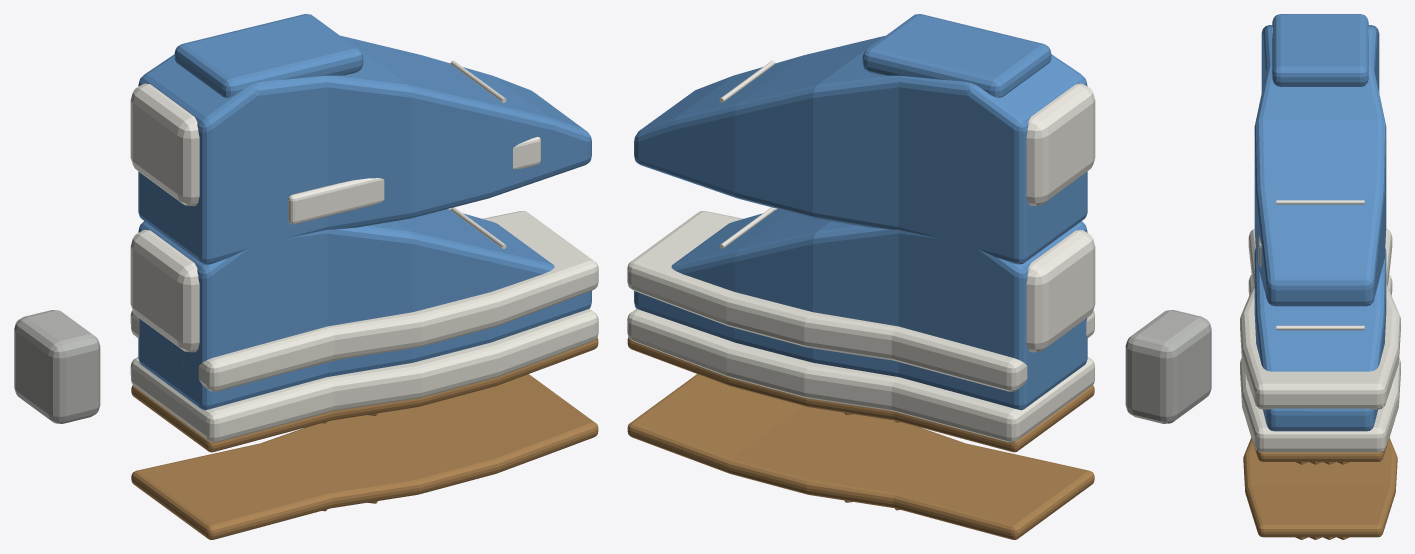
File: nike-oregon-waffle-1973.glb
3 views of the same model, side by side, from view 1: azimuth 30°, elevation 25°; view 2: azimuth 150°, elevation 25°; view 3: azimuth 270°, elevation 25° (orthographic). The views are drawn at different scales.
Visible parts, largest first — view 1: nike-oregon-waffle-1973_UPPER_EXPLODED, nike-oregon-waffle-1973_UPPER, nike-oregon-waffle-1973_OUTSOLE_EXPLODED, nike-oregon-waffle-1973_MIDSOLE_EXPLODED, nike-oregon-waffle-1973_MIDSOLE, nike-oregon-waffle-1973_TONGUE_EXPLODED, nike-oregon-waffle-1973_HEEL_FOAM_EXPLODED, nike-oregon-waffle-1973_HEEL_COUNTER, nike-oregon-waffle-1973_HEEL_COUNTER_EXPLODED, nike-oregon-waffle-1973_OUTSOLE, nike-oregon-waffle-1973_SIDE_REINFORCEMENT_EXPLODED; view 2: nike-oregon-waffle-1973_UPPER_EXPLODED, nike-oregon-waffle-1973_UPPER, nike-oregon-waffle-1973_OUTSOLE_EXPLODED, nike-oregon-waffle-1973_MIDSOLE_EXPLODED, nike-oregon-waffle-1973_MIDSOLE, nike-oregon-waffle-1973_TONGUE_EXPLODED, nike-oregon-waffle-1973_HEEL_FOAM_EXPLODED, nike-oregon-waffle-1973_HEEL_COUNTER, nike-oregon-waffle-1973_HEEL_COUNTER_EXPLODED, nike-oregon-waffle-1973_OUTSOLE; view 3: nike-oregon-waffle-1973_UPPER_EXPLODED, nike-oregon-waffle-1973_UPPER, nike-oregon-waffle-1973_OUTSOLE_EXPLODED, nike-oregon-waffle-1973_MIDSOLE_EXPLODED, nike-oregon-waffle-1973_TONGUE_EXPLODED, nike-oregon-waffle-1973_MIDSOLE, nike-oregon-waffle-1973_OUTSOLE, nike-oregon-waffle-1973_LACE_5, nike-oregon-waffle-1973_LACE_5_EXPLODED.
Part boxes in pixels (box(x1,y1,x2,y2)): nike-oregon-waffle-1973_UPPER_EXPLODED: box(138, 35, 591, 264); nike-oregon-waffle-1973_UPPER: box(138, 209, 591, 410); nike-oregon-waffle-1973_OUTSOLE_EXPLODED: box(131, 374, 598, 539); nike-oregon-waffle-1973_MIDSOLE_EXPLODED: box(130, 211, 598, 391); nike-oregon-waffle-1973_MIDSOLE: box(130, 308, 598, 442); nike-oregon-waffle-1973_TONGUE_EXPLODED: box(174, 14, 363, 97); nike-oregon-waffle-1973_HEEL_FOAM_EXPLODED: box(14, 310, 100, 423); nike-oregon-waffle-1973_HEEL_COUNTER: box(130, 229, 199, 352); nike-oregon-waffle-1973_HEEL_COUNTER_EXPLODED: box(130, 83, 199, 206); nike-oregon-waffle-1973_OUTSOLE: box(131, 337, 598, 452); nike-oregon-waffle-1973_SIDE_REINFORCEMENT_EXPLODED: box(288, 137, 540, 224); nike-oregon-waffle-1973_UPPER_EXPLODED: box(634, 35, 1087, 264); nike-oregon-waffle-1973_UPPER: box(634, 209, 1087, 410); nike-oregon-waffle-1973_OUTSOLE_EXPLODED: box(627, 374, 1094, 539); nike-oregon-waffle-1973_MIDSOLE_EXPLODED: box(627, 211, 1094, 391); nike-oregon-waffle-1973_MIDSOLE: box(627, 308, 1094, 442); nike-oregon-waffle-1973_TONGUE_EXPLODED: box(862, 14, 1051, 97); nike-oregon-waffle-1973_HEEL_FOAM_EXPLODED: box(1125, 310, 1211, 423); nike-oregon-waffle-1973_HEEL_COUNTER: box(1026, 230, 1095, 352); nike-oregon-waffle-1973_HEEL_COUNTER_EXPLODED: box(1026, 83, 1095, 206); nike-oregon-waffle-1973_OUTSOLE: box(627, 337, 1094, 452); nike-oregon-waffle-1973_UPPER_EXPLODED: box(1254, 25, 1386, 306); nike-oregon-waffle-1973_UPPER: box(1254, 248, 1386, 431); nike-oregon-waffle-1973_OUTSOLE_EXPLODED: box(1243, 438, 1397, 537); nike-oregon-waffle-1973_MIDSOLE_EXPLODED: box(1240, 229, 1400, 409); nike-oregon-waffle-1973_TONGUE_EXPLODED: box(1272, 14, 1368, 86); nike-oregon-waffle-1973_MIDSOLE: box(1240, 275, 1400, 452); nike-oregon-waffle-1973_OUTSOLE: box(1247, 424, 1393, 461); nike-oregon-waffle-1973_LACE_5: box(1276, 325, 1364, 330); nike-oregon-waffle-1973_LACE_5_EXPLODED: box(1276, 200, 1364, 204).
Bounding box in the file's own units: 0.381 × 0.308 × 0.116.
